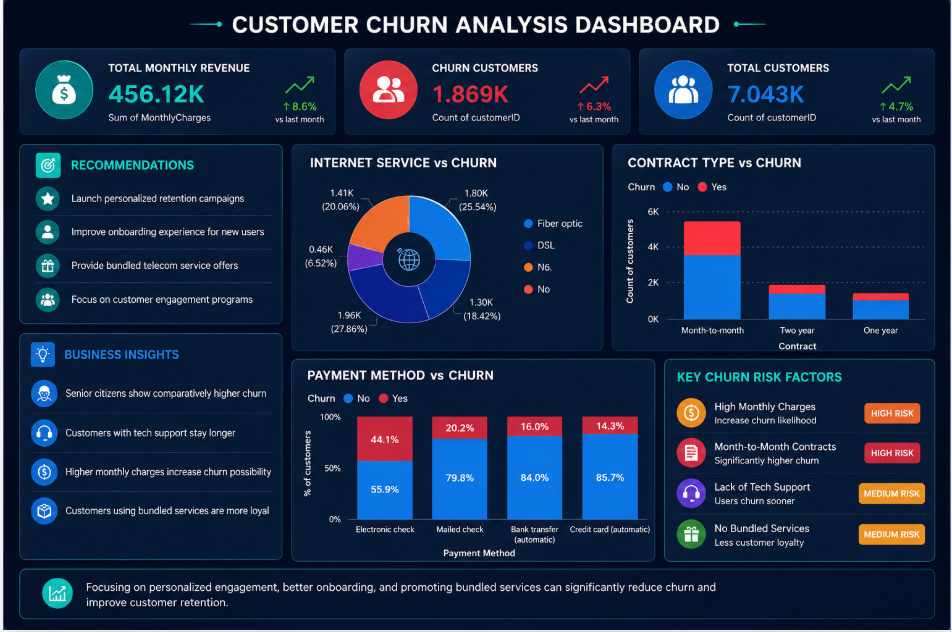

This screenshot's page, from the dashboard's own definition file:
{"tool":"powerbi","page":{"name":"Page 1","canvas":[1280,720],"ordinal":0},"visuals":[{"type":"cardVisual","title":"Total Customers","fields":{"Data":["CountNonNull(WA_Fn-UseC_-Telco-Customer-Churn.customerID)"]},"box":[1044.3,81.9,225,152.9],"z":0},{"type":"cardVisual","title":"Churn Customers","fields":{"Data":["CountNonNull(WA_Fn-UseC_-Telco-Customer-Churn.customerID)"]},"box":[781.4,81.9,240.9,152.9],"z":1000},{"type":"cardVisual","title":"Total Monthly Revenue","fields":{"Data":["Sum(WA_Fn-UseC_-Telco-Customer-Churn.MonthlyCharges)"]},"box":[525.8,83.2,233.6,152.9],"z":2000},{"type":"columnChart","title":"Contract Type vs Churn","fields":{"Category":["WA_Fn-UseC_-Telco-Customer-Churn.Contract"],"Y":["CountNonNull(WA_Fn-UseC_-Telco-Customer-Churn.customerID)"],"Series":["WA_Fn-UseC_-Telco-Customer-Churn.Churn"]},"box":[912.1,253.4,358.3,213.5],"z":3000},{"type":"pieChart","title":"Internet Service vs Churn","fields":{"Category":["WA_Fn-UseC_-Telco-Customer-Churn.InternetService"],"Y":["CountNonNull(WA_Fn-UseC_-Telco-Customer-Churn.customerID)"],"Series":["WA_Fn-UseC_-Telco-Customer-Churn.Churn"]},"box":[552.5,254.6,359.5,213.5],"z":4000},{"type":"hundredPercentStackedColumnChart","title":"Payment Method vs Churn","fields":{"Category":["WA_Fn-UseC_-Telco-Customer-Churn.PaymentMethod"],"Y":["CountNonNull(WA_Fn-UseC_-Telco-Customer-Churn.customerID)"],"Series":["WA_Fn-UseC_-Telco-Customer-Churn.Churn"]},"box":[561.3,494,719,226.2],"z":5000},{"type":"textbox","title":"Business Insights","box":[14.5,359.5,528.4,199.1],"z":7000},{"type":"textbox","title":"Recommendations","box":[14.5,136.3,495.8,200.3],"z":8000},{"type":"textbox","box":[310.6,9.8,711.7,55],"z":8001}]}

Visuals, with their boxes on the page's 1280x720 design canvas (x1, y1, x2, y2). These are canvas units, not pixel positions in the 952x632 screenshot, which may show the page scaled, cropped or inside an application window:
"Total Customers" cardVisual: 1044/82/1269/235
"Churn Customers" cardVisual: 781/82/1022/235
"Total Monthly Revenue" cardVisual: 526/83/759/236
"Contract Type vs Churn" columnChart: 912/253/1270/467
"Internet Service vs Churn" pieChart: 552/255/912/468
"Payment Method vs Churn" hundredPercentStackedColumnChart: 561/494/1280/720
"Business Insights" textbox: 14/360/543/559
"Recommendations" textbox: 14/136/510/337
textbox: 311/10/1022/65
